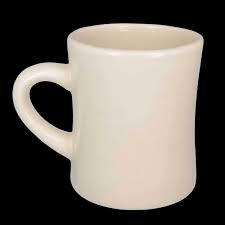mug: (15, 20, 214, 210)
